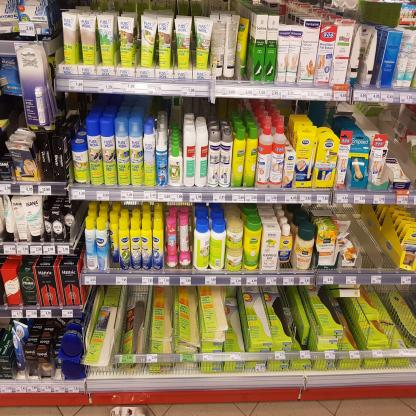empty_space: (352, 216, 401, 272), (352, 221, 382, 272)
